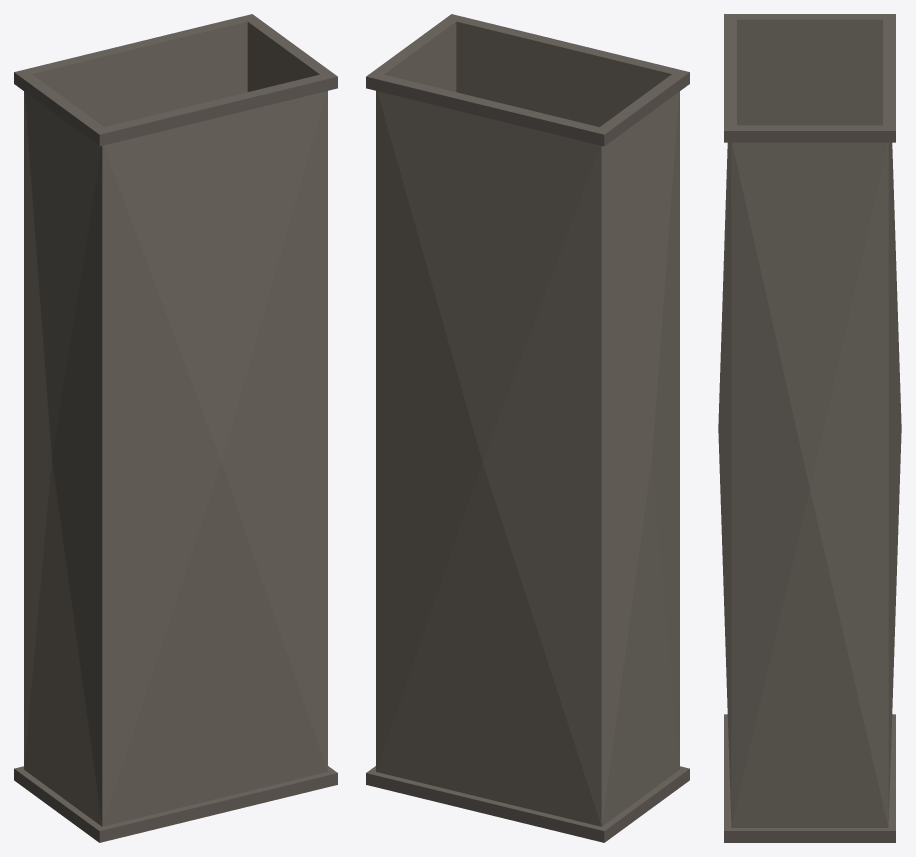
The model's file is SM_Props_Roof_Vent_Straight.fbx.
The picture shows the model from 3 angles, left to right: view 1: azimuth 30°, elevation 25°; view 2: azimuth 150°, elevation 25°; view 3: azimuth 270°, elevation 25°; orthographic projection.
Parts seen in each view (by area): view 1: SM_Props_Roof_Vent_Straight; view 2: SM_Props_Roof_Vent_Straight; view 3: SM_Props_Roof_Vent_Straight.
Part boxes in pixels (x1=…): SM_Props_Roof_Vent_Straight: x1=14, y1=14, x2=337, y2=842; SM_Props_Roof_Vent_Straight: x1=366, y1=14, x2=689, y2=842; SM_Props_Roof_Vent_Straight: x1=718, y1=14, x2=901, y2=842.
Size of the model in its own units: 110 by 300 by 70.
